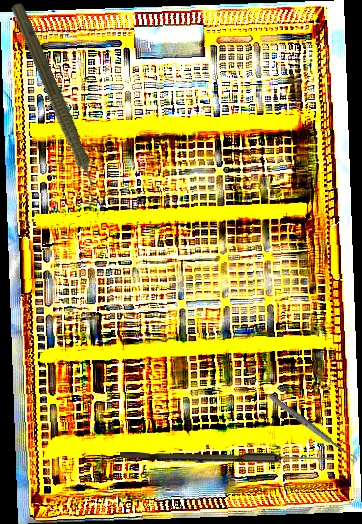Handpiece: (2, 0, 109, 206)
Surgical Spoon: (266, 392, 359, 464), (120, 452, 334, 463)
